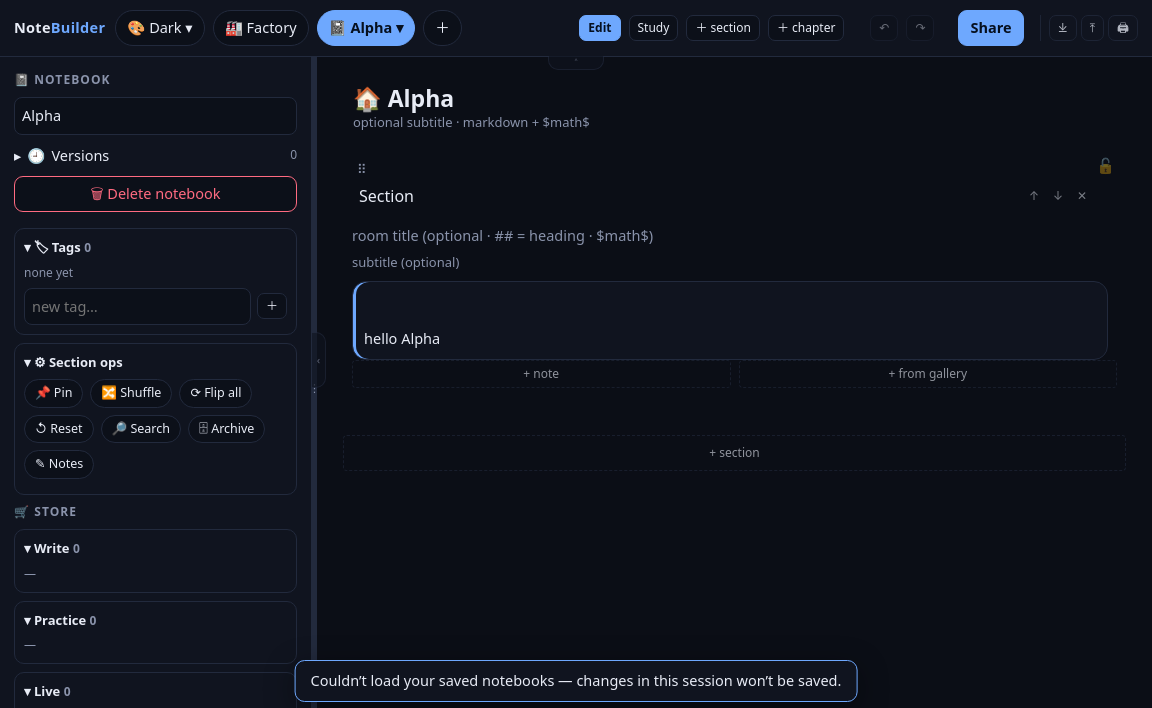
App durability — deleting a notebook › deletes it, never saves it again, prunes its reader state and opens the next one
Click the button with class "add-card" showing "+ note".
click(541, 374)  # box [352,360,730,388]
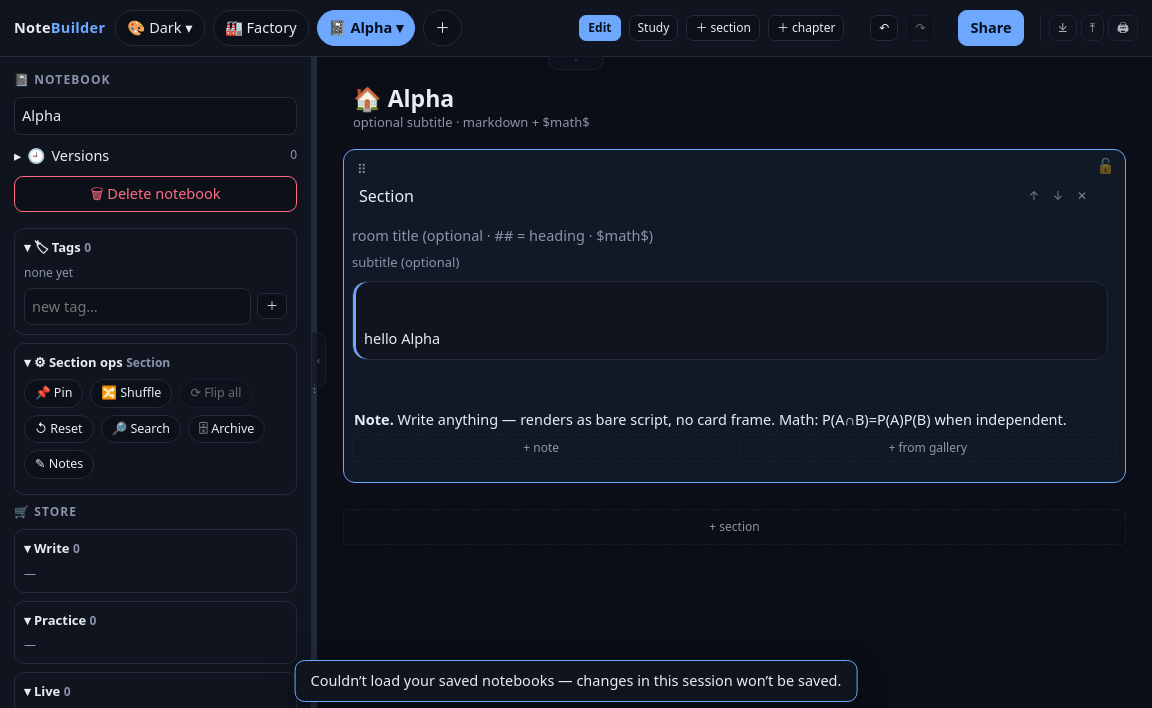
Click the button "🗑 Delete notebook".
click(156, 194)  # box [14,176,297,212]
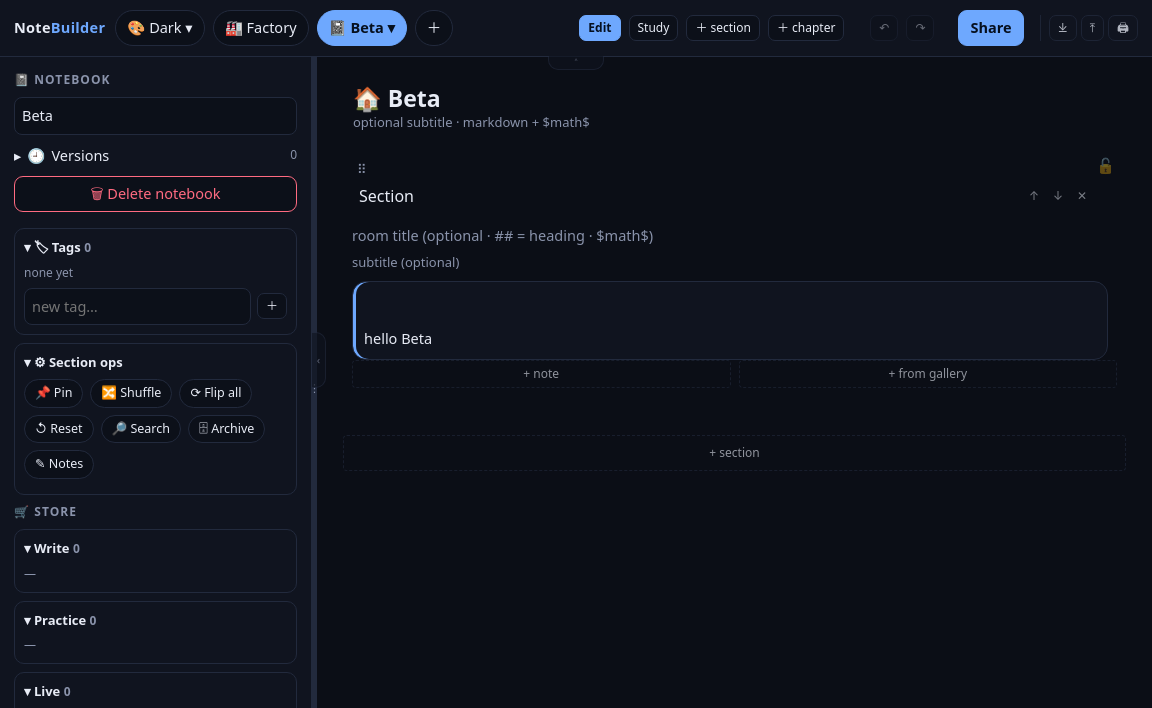
Now the text "hello Beta" is shown, box [364,328,432,348]
